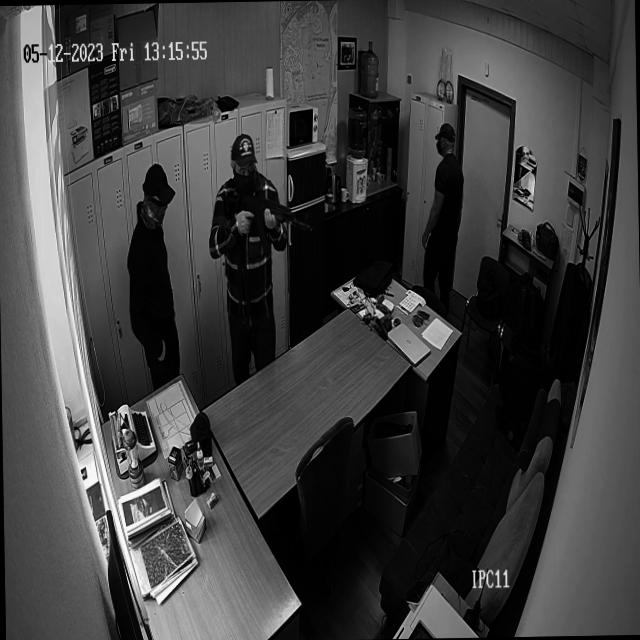gun: (225, 192, 315, 268)
person: (128, 166, 183, 390), (418, 124, 469, 300)
person with a gun: (209, 141, 318, 387)
